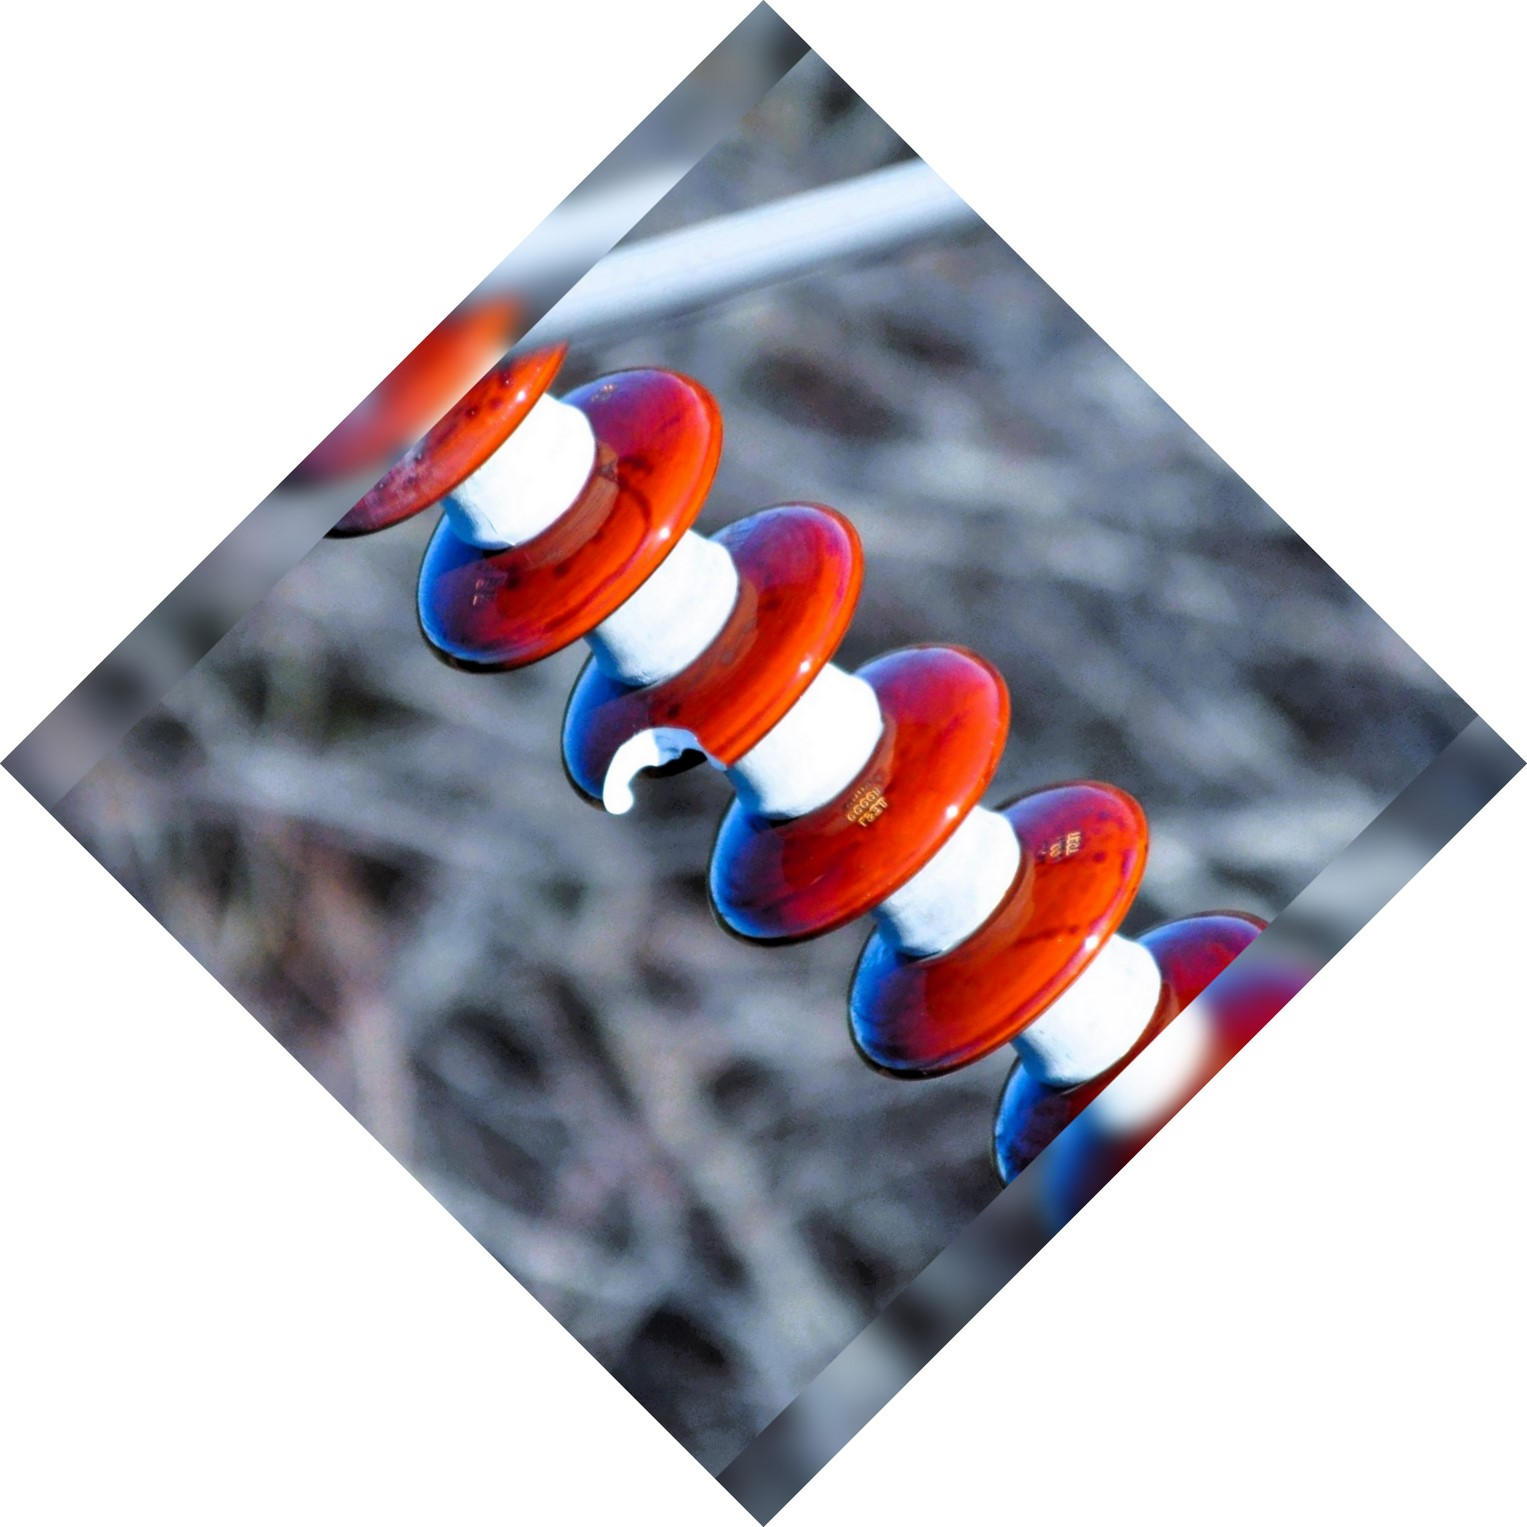insulator breakage: (550, 494, 870, 843)
